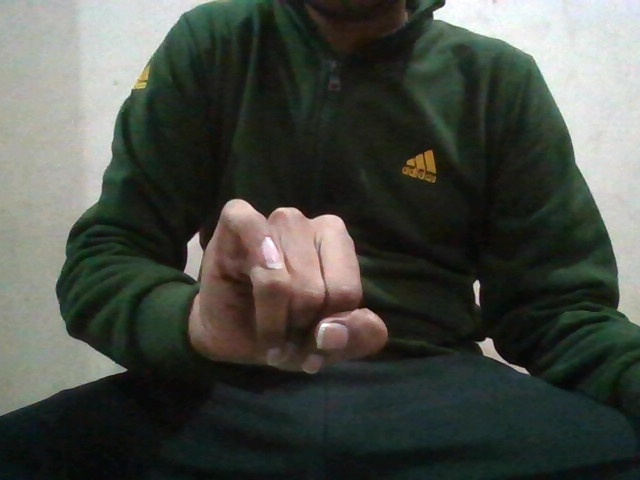J: (195, 195, 393, 372)
